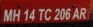character: (3, 8, 12, 21), (11, 8, 20, 21), (27, 8, 35, 21), (43, 7, 51, 20), (37, 8, 45, 20), (53, 7, 60, 20), (72, 6, 79, 19), (59, 6, 65, 20), (22, 8, 28, 21), (79, 7, 86, 18), (64, 7, 70, 19)
